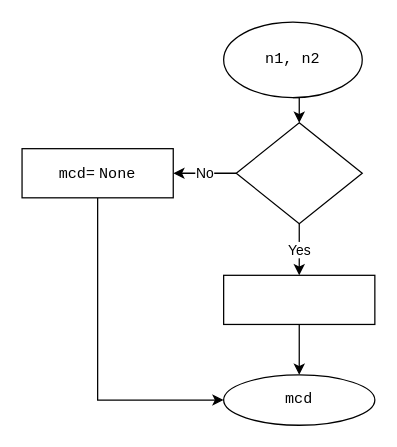
This 397x447 diagram has some shape labels left out. Here are the shapes that lost their labels. From the top down, the centre of each, then its label:
At (x=298, y=173): "Arguments OK?".
At (x=298, y=299): "mcd = n1/n2".
